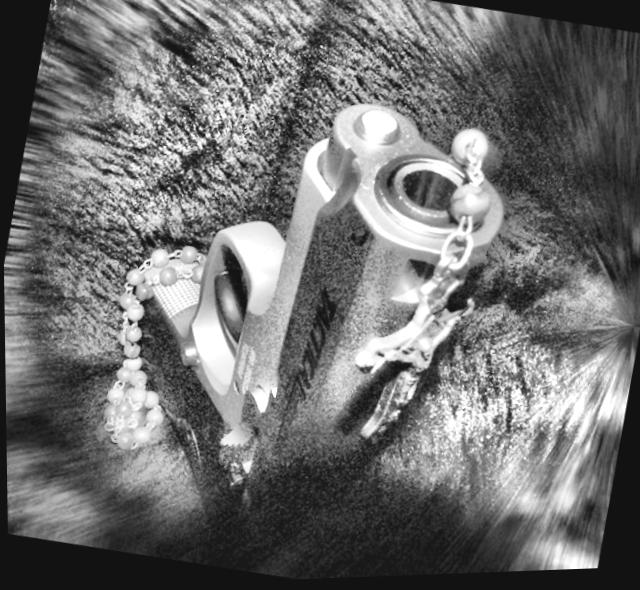pistol: (73, 64, 528, 564)
